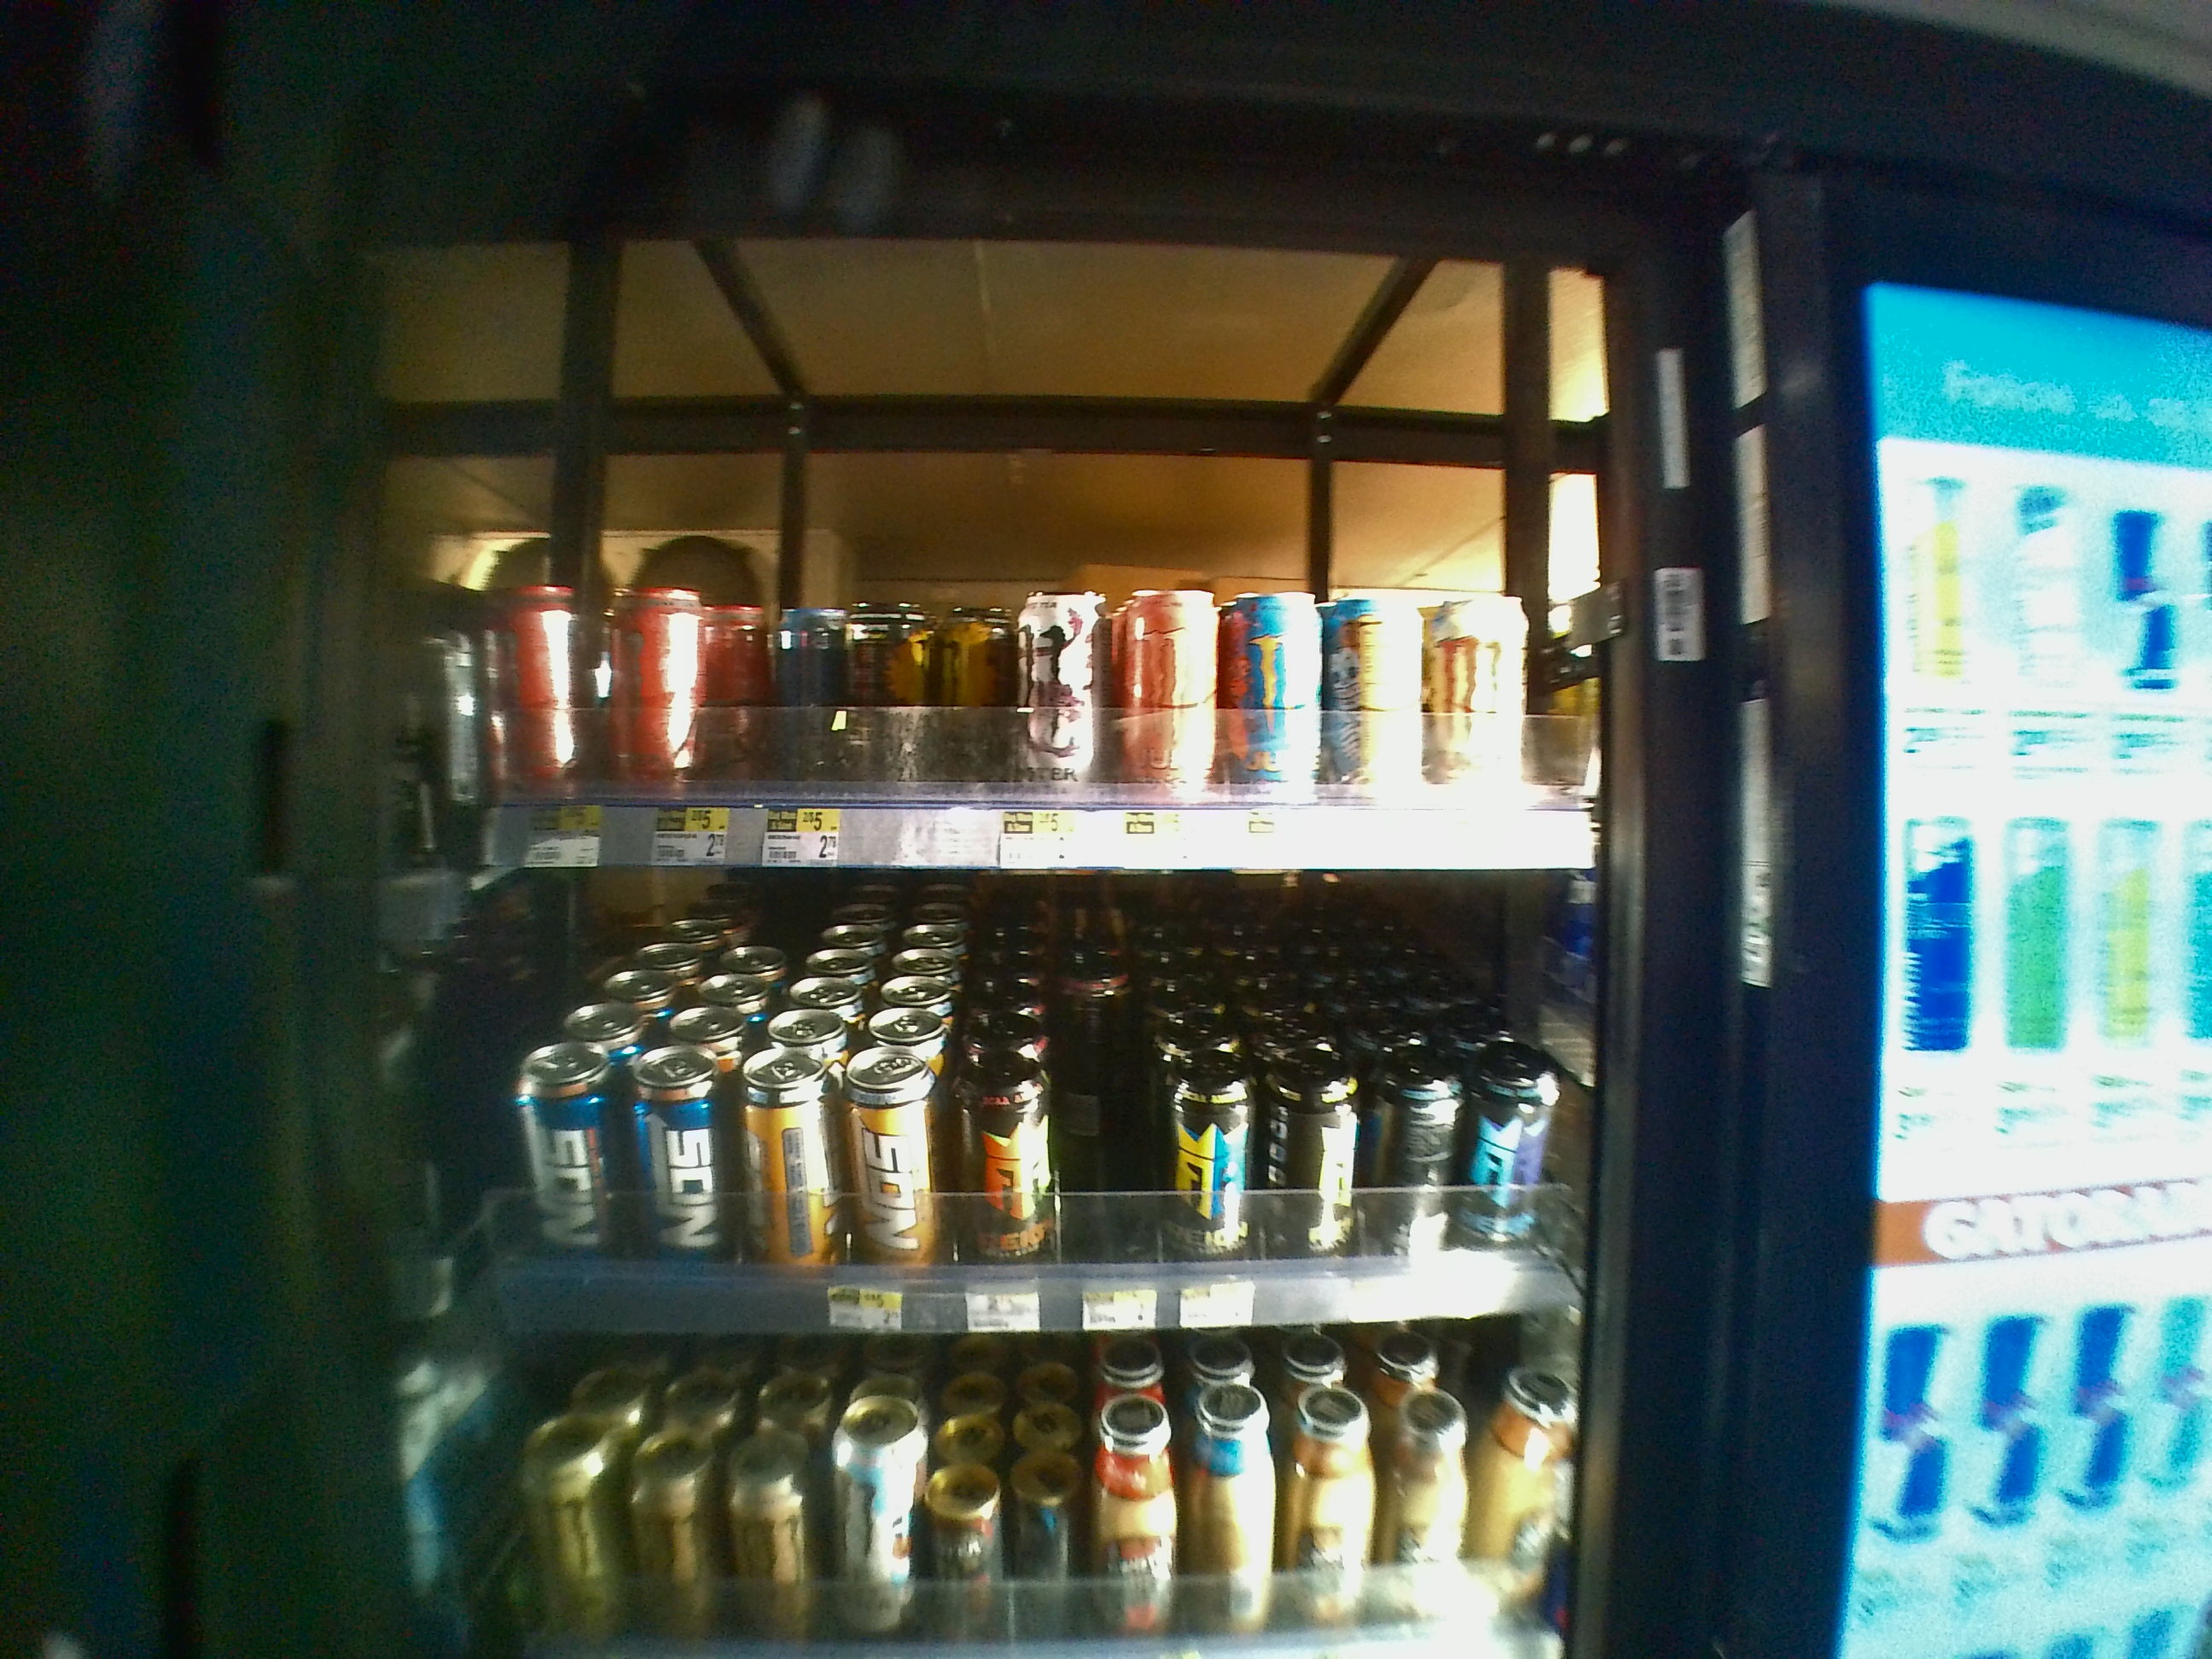shelf: (387, 256, 1620, 871), (378, 861, 1632, 1328)
